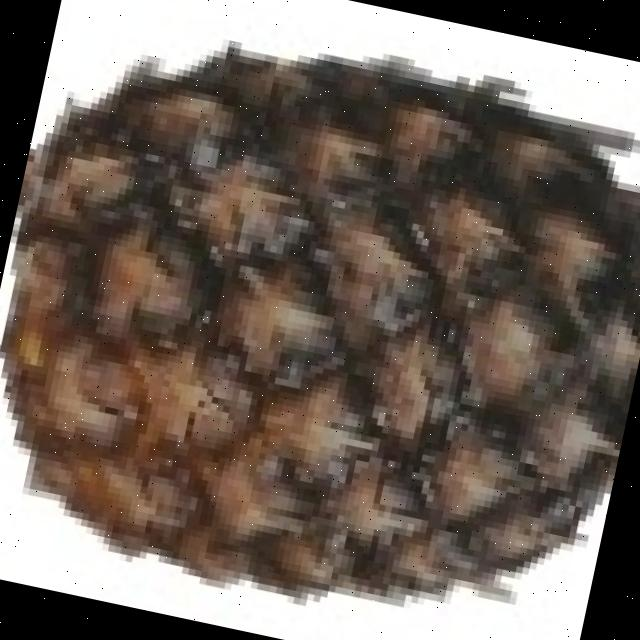pineapple: (0, 45, 640, 601)
